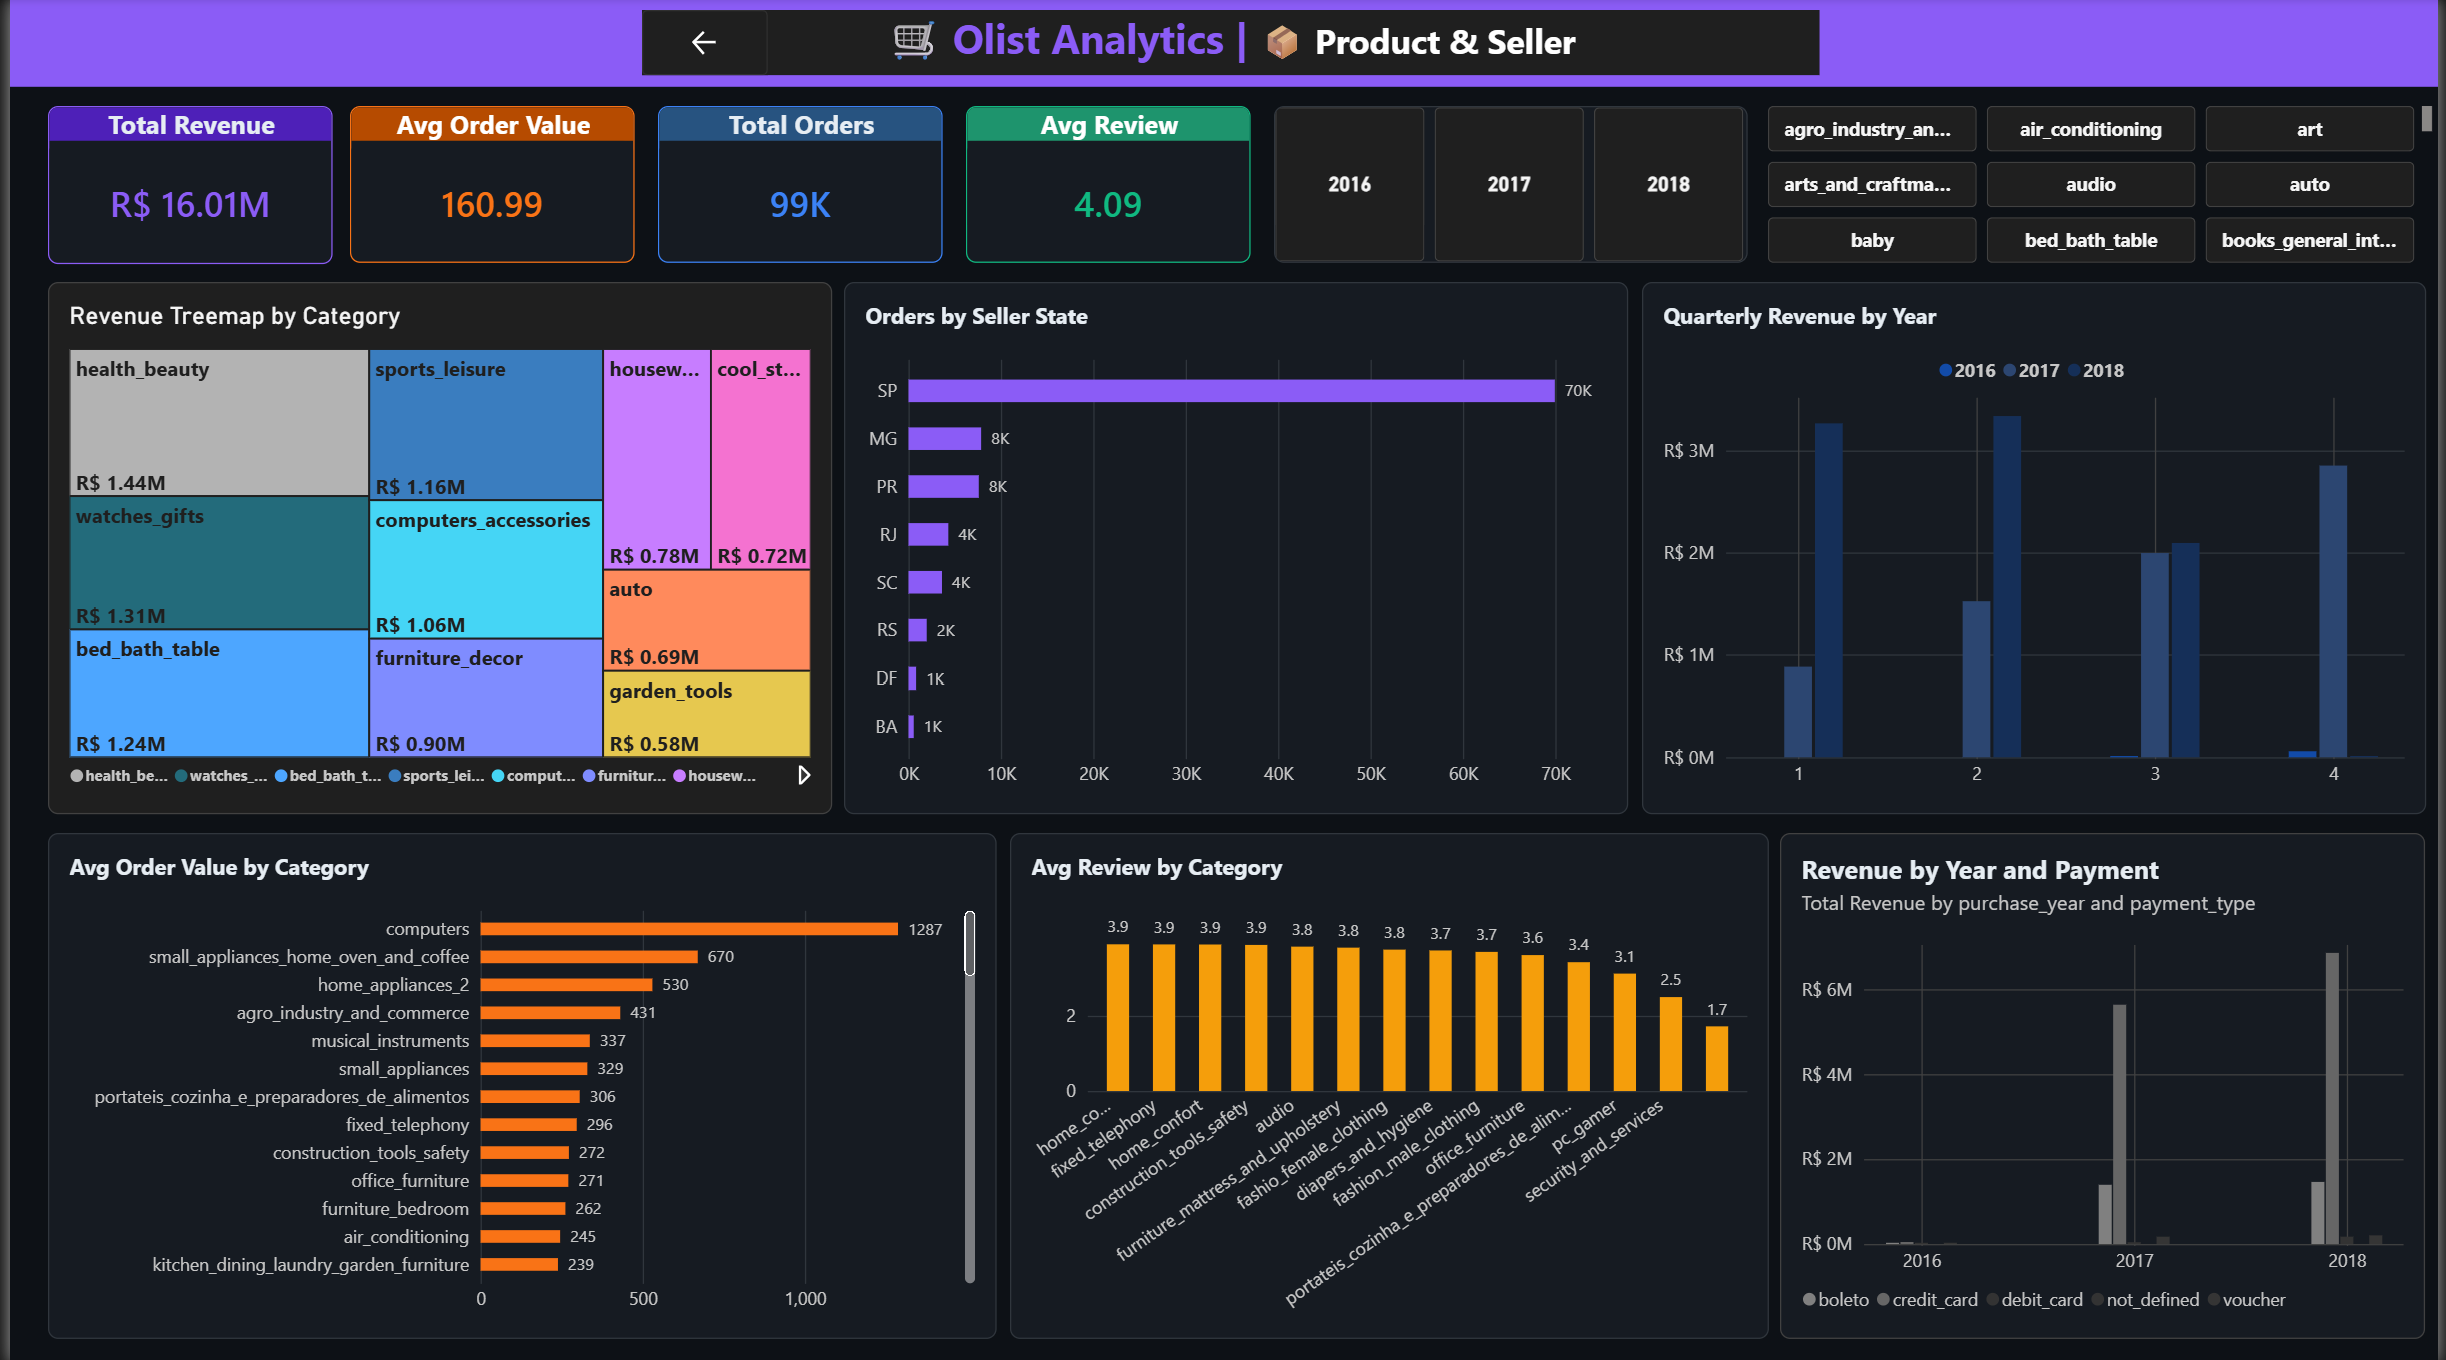

The dashboard page shown, as its layout file describes it:
{"tool":"powerbi","page":{"name":"Product & Seller","canvas":[1920,1080],"ordinal":3},"visuals":[{"type":"treemap","title":"🗂️ Revenue Treemap by Category","fields":{"Group":["dim_products.product_category_en"],"Values":["fact_orders.Total Revenue"]},"box":[30,225,620,420],"z":2000},{"type":"barChart","title":"🏪 Orders by Seller State","fields":{"Category":["dim_sellers.seller_state"],"Y":["fact_orders.Total Orders"]},"box":[660,225,620,420],"z":2000},{"type":"clusteredColumnChart","title":"📊 Quarterly Revenue by Year","fields":{"Category":["fact_orders.purchase_quarter"],"Y":["fact_orders.Total Revenue"],"Series":["fact_orders.purchase_year"]},"box":[1290,225,620,420],"z":2000},{"type":"barChart","title":"💵 Avg Order Value by Category","fields":{"Category":["fact_orders.product_category_en"],"Y":["fact_orders.Avg Order Value"]},"box":[30,660,750,400],"z":2000},{"type":"clusteredColumnChart","title":"⭐ Avg Review Score by Category","fields":{"Category":["dim_products.product_category_en"],"Y":["fact_orders.Avg Review Score"]},"box":[790,660,600,400],"z":2000},{"type":"clusteredColumnChart","title":"💳 Revenue by Year & Payment","fields":{"Category":["fact_orders.purchase_year"],"Y":["fact_orders.Total Revenue"],"Series":["fact_orders.payment_type"]},"box":[1400,660,510,400],"z":2000},{"type":"cardVisual","title":"💰 Total Revenue","fields":{"Data":["fact_orders.Total Revenue"]},"box":[30,85,225,125],"z":5000},{"type":"cardVisual","title":"🧾 Avg Order Value","fields":{"Data":["fact_orders.Avg Order Value"]},"box":[265,85,225,125],"z":5000},{"type":"cardVisual","title":"📦 Total Orders","fields":{"Data":["fact_orders.Total Orders"]},"box":[500,85,225,125],"z":5000},{"type":"cardVisual","title":"⭐ Avg Review","fields":{"Data":["fact_orders.Avg Review Score"]},"box":[735,85,225,125],"z":5000},{"type":"advancedSlicerVisual","fields":{"Values":["fact_orders.purchase_year"]},"box":[1500,80,200,130],"z":7000},{"type":"advancedSlicerVisual","fields":{"Values":["fact_orders.product_category_en"]},"box":[1710,80,200,130],"z":7000},{"type":"textbox","box":[32,10,700,52],"z":8500},{"type":"shape","box":[0,0,1920,70],"z":9000}]}

Visuals, with their boxes in screenshot pixels (x1, y1, x2, y2), scaled from the page's 1920x1080 canvas onto the 2446x1360 screenshot:
"🗂️ Revenue Treemap by Category" treemap: bbox(38, 283, 828, 812)
"🏪 Orders by Seller State" barChart: bbox(841, 283, 1631, 812)
"📊 Quarterly Revenue by Year" clusteredColumnChart: bbox(1643, 283, 2433, 812)
"💵 Avg Order Value by Category" barChart: bbox(38, 831, 994, 1335)
"⭐ Avg Review Score by Category" clusteredColumnChart: bbox(1006, 831, 1771, 1335)
"💳 Revenue by Year & Payment" clusteredColumnChart: bbox(1784, 831, 2433, 1335)
"💰 Total Revenue" cardVisual: bbox(38, 107, 325, 264)
"🧾 Avg Order Value" cardVisual: bbox(338, 107, 624, 264)
"📦 Total Orders" cardVisual: bbox(637, 107, 924, 264)
"⭐ Avg Review" cardVisual: bbox(936, 107, 1223, 264)
advancedSlicerVisual - fact_orders.purchase_year: bbox(1911, 101, 2166, 264)
advancedSlicerVisual - fact_orders.product_category_en: bbox(2178, 101, 2433, 264)
textbox: bbox(41, 13, 933, 78)
shape: bbox(0, 0, 2445, 88)
